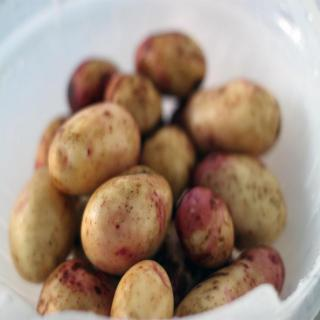Potato: (7, 32, 287, 319), (48, 99, 140, 196)
